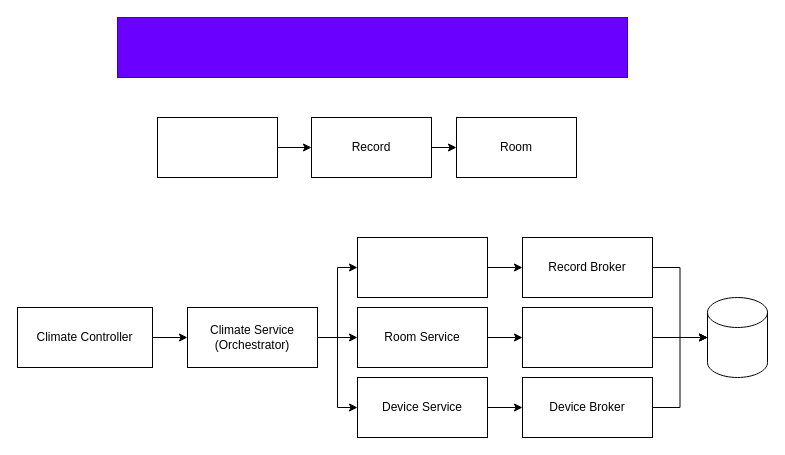
The diagram is 785 pixels wide and 455 high, and some of its shapes have lost their labels. Here are the shapes that lost their labels. From the top down, the centre of each, then its label:
At (372,47): "Web API that recives records of rooms climate conditions from Iot Devices".
At (217,147): "Device".
At (422,267): "Record Service".
At (587,337): "Room Broker".
